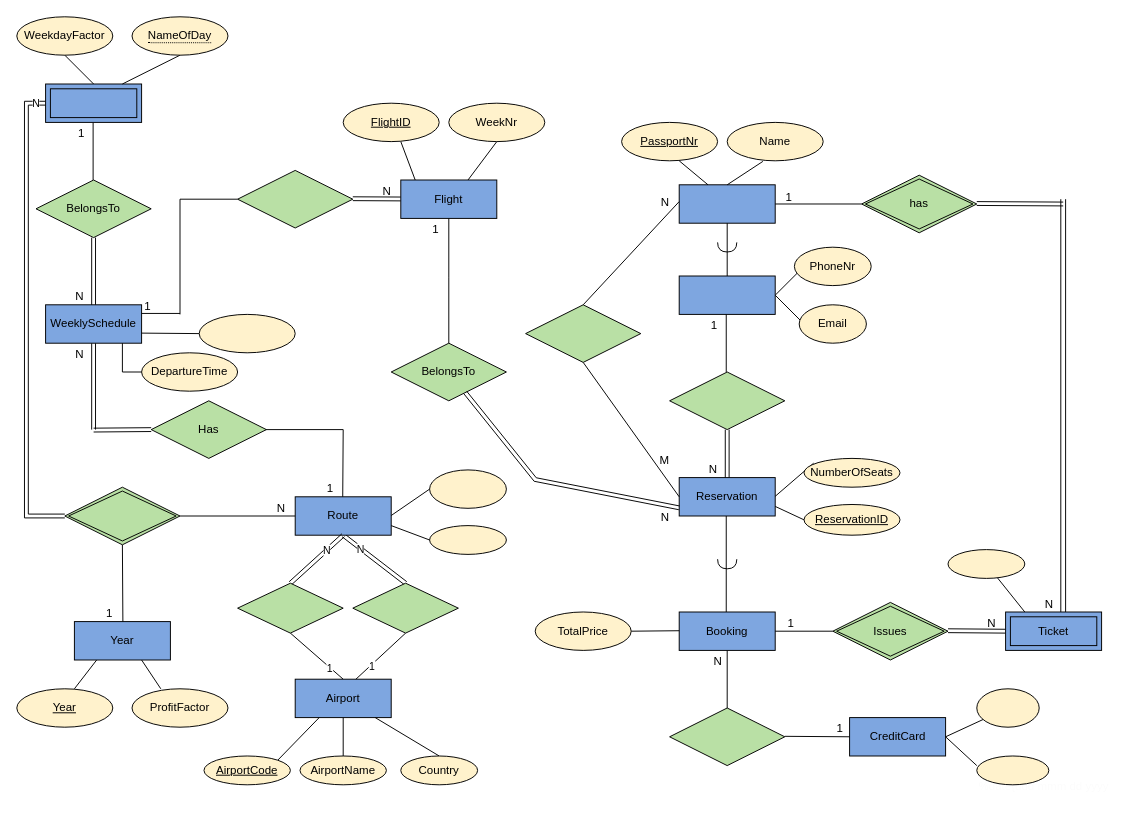
Some shapes in this 1138 by 822 pixel diagram are drawn without their labels. The centre of each missing label's shape, as x and y in pixels:
Arrival: point (290, 607)
CardHolder: point (1012, 770)
CardNr: point (1007, 707)
Contact: point (726, 294)
Departure: point (405, 607)
IsIn: point (295, 198)
IsOf: point (122, 515)
IsPaidBy: point (727, 736)
makes: point (727, 400)
Passenger: point (726, 203)
RouteID: point (467, 488)
RoutePrice: point (467, 539)
ScheduleID: point (246, 333)
TicketID: point (986, 563)
UnpaidReservation: point (583, 333)
WeekDay: point (93, 102)
